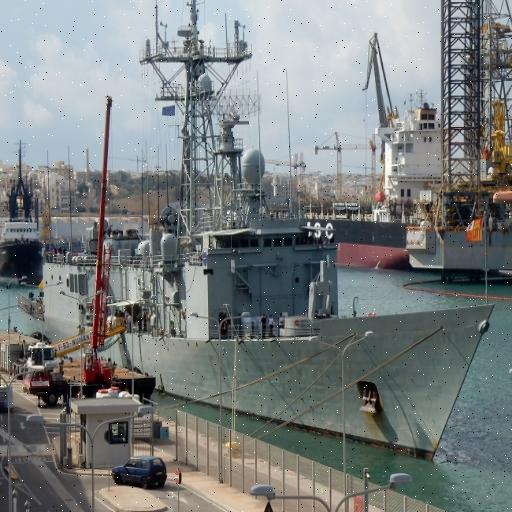Fragata: (29, 1, 496, 475)
